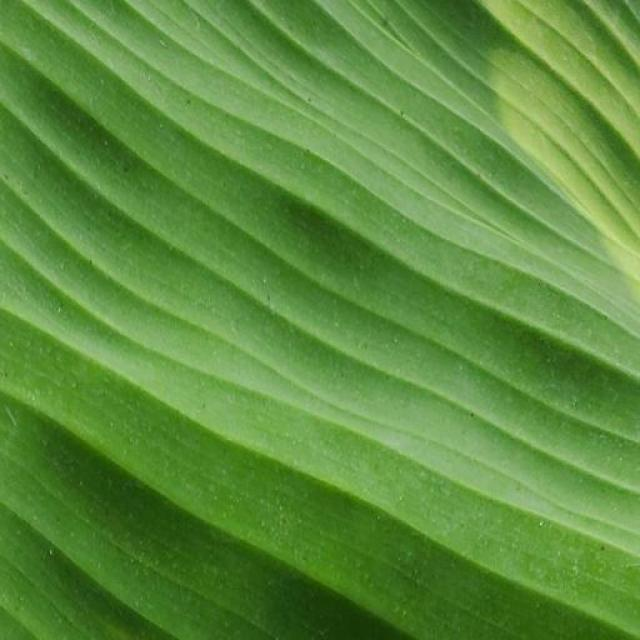Black_leaf_spot: (5, 21, 633, 584)
